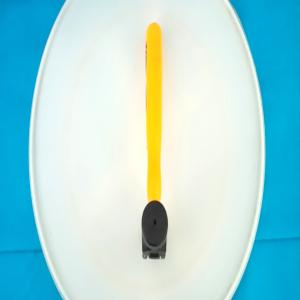martelo: (141, 21, 169, 260)
